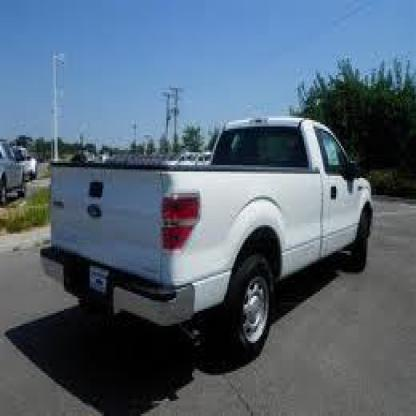Vehicle: (37, 116, 379, 366)
